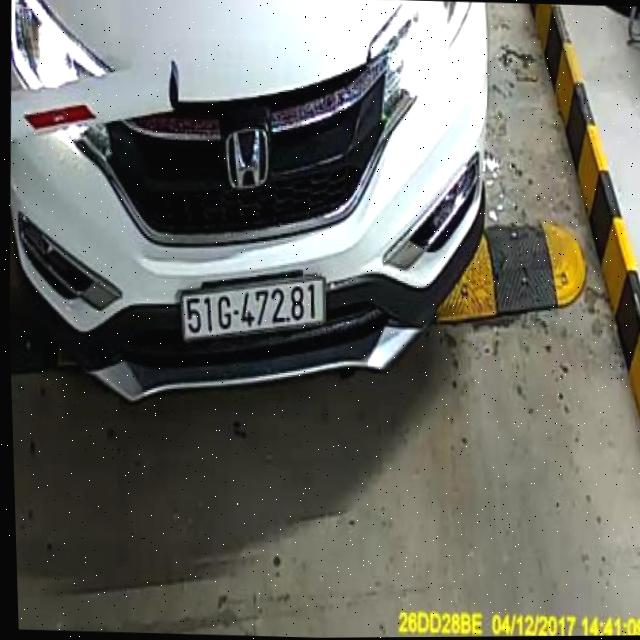car: (0, 0, 509, 414)
plate: (177, 276, 325, 339)
